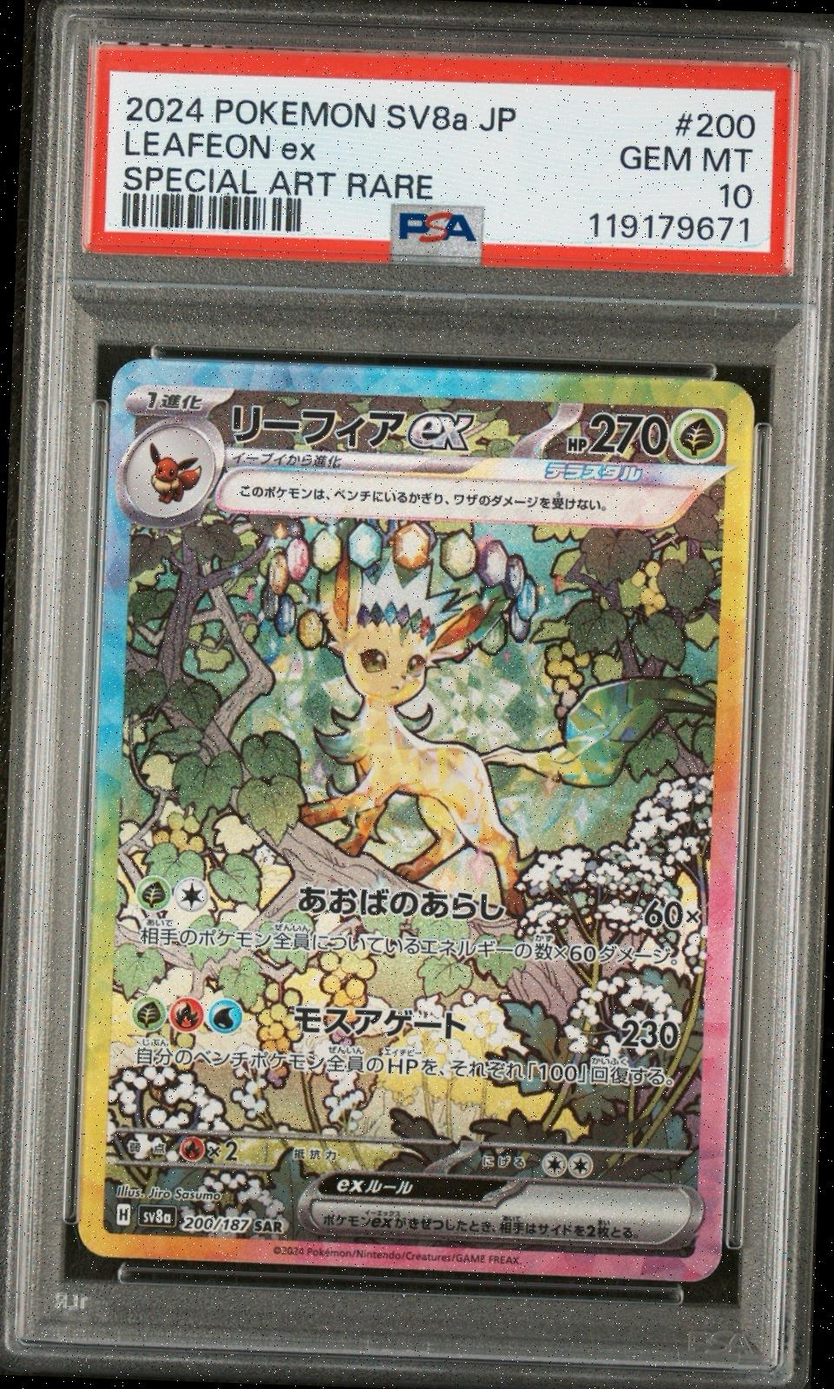card-2UtV: (76, 358, 755, 1283)
